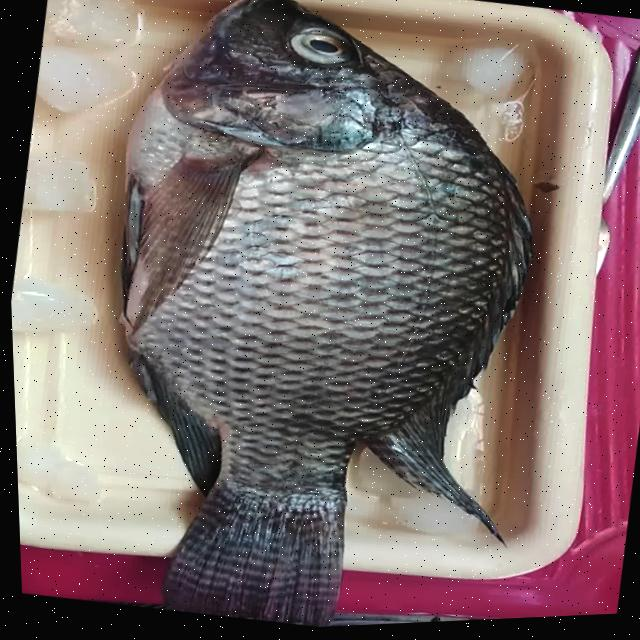Fresh: (67, 63, 629, 638), (263, 18, 383, 89)
